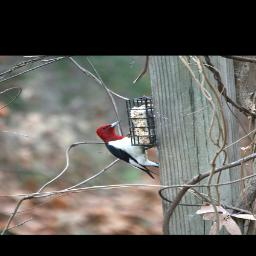Woodpecker: (90, 118, 166, 181)
